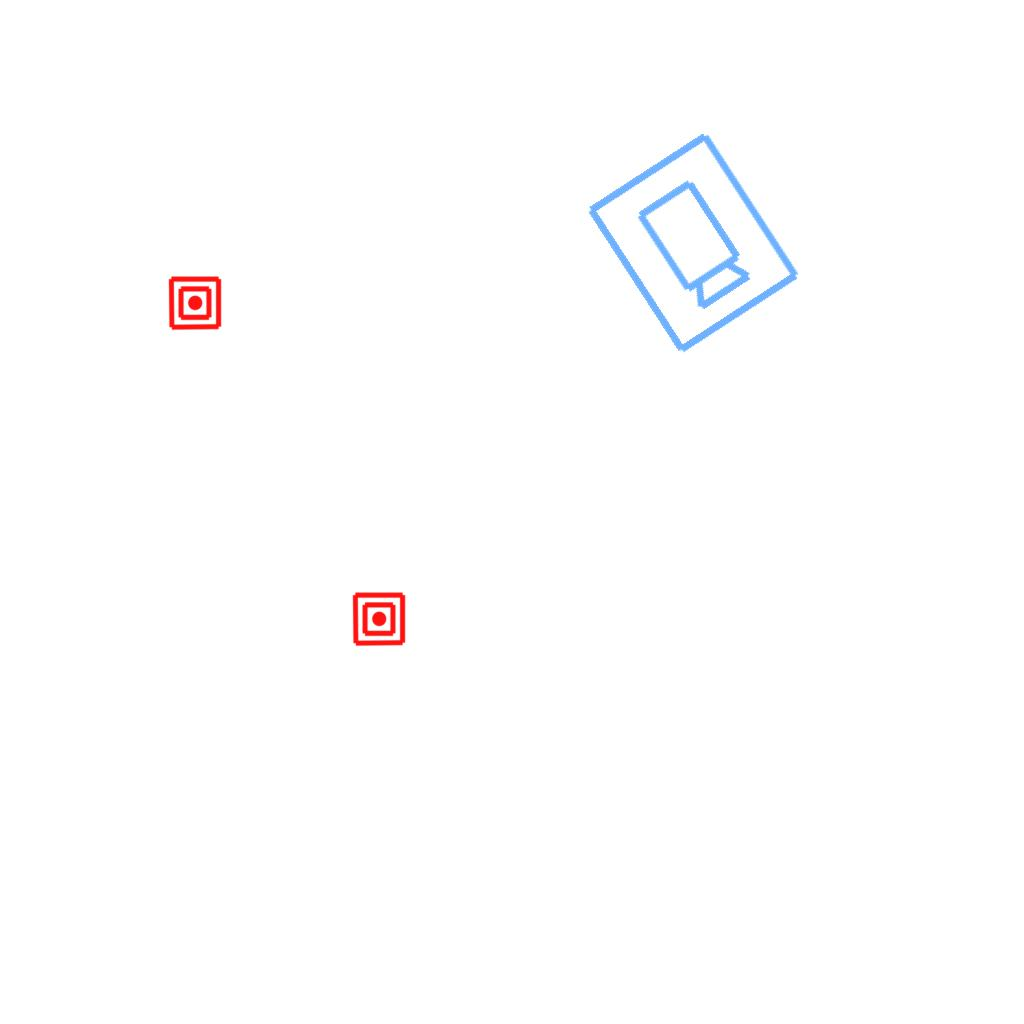KFO_Kamera_mit_Festobjektiv: (577, 124, 807, 362)
NAM-Nichtautomatischer_Melder: (167, 275, 223, 331), (351, 591, 407, 647)
